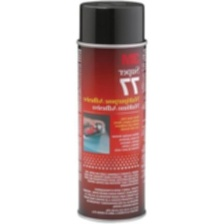aerosol_cans: (71, 0, 153, 224)
